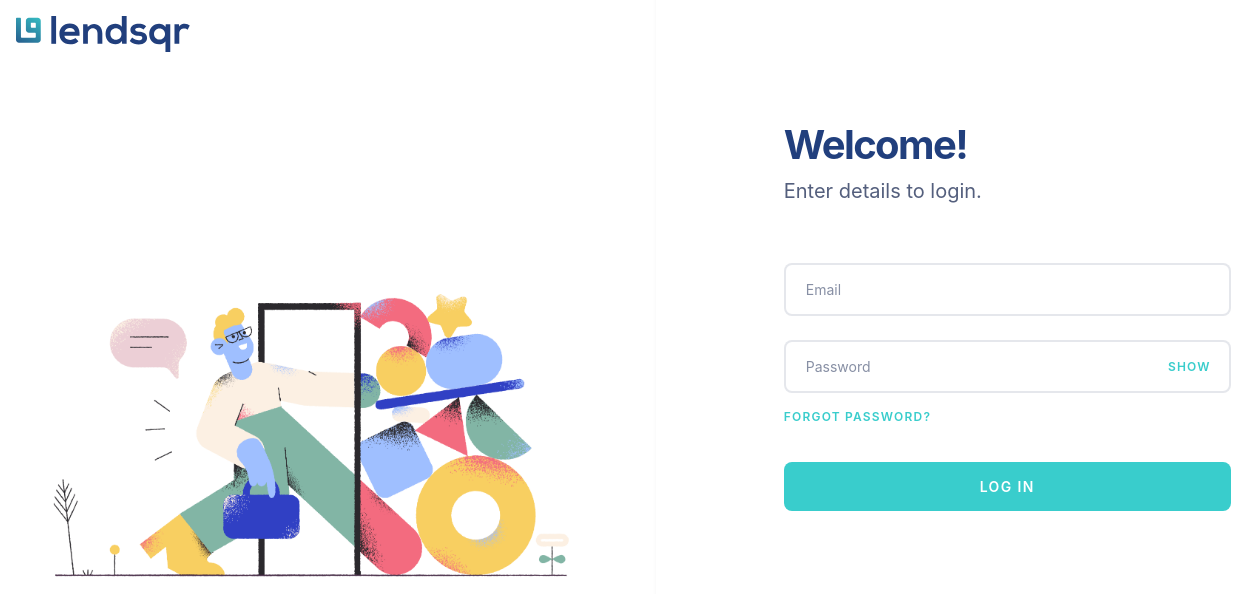
Test: LoginPage › shows validation errors for empty fields
Click the button "LOG IN": x=1007, y=486 x1=784 y1=462 x2=1231 y2=510
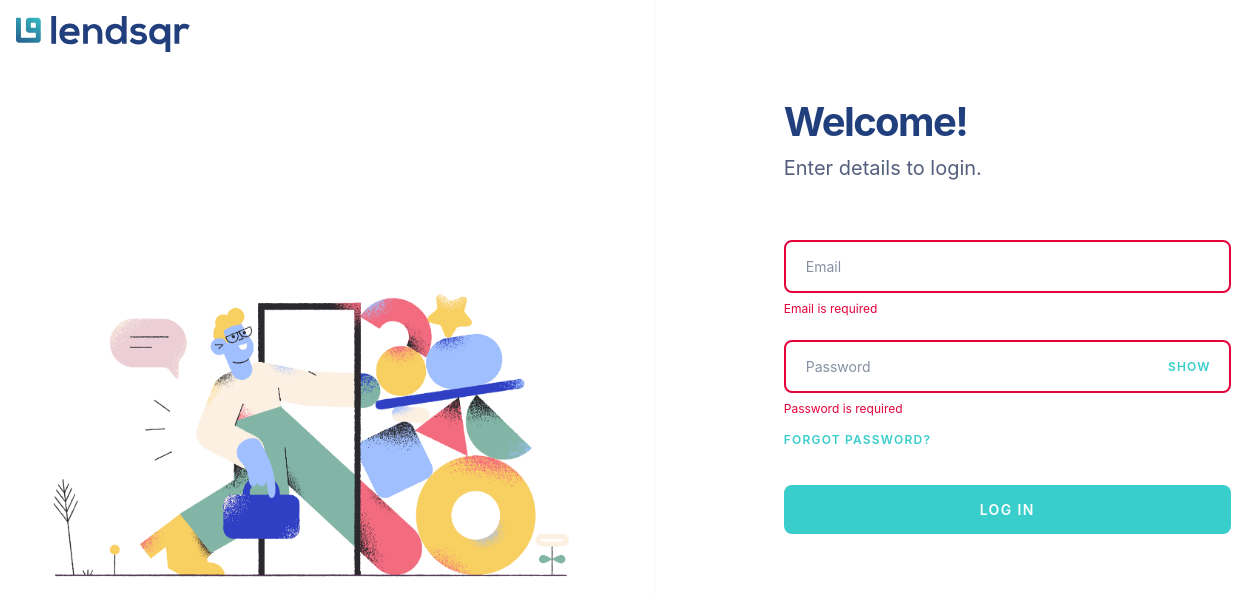
Now the text "Email is required" is shown, box x1=784 y1=300 x2=877 y2=316
Now the text "Password is required" is shown, box x1=784 y1=400 x2=903 y2=416
